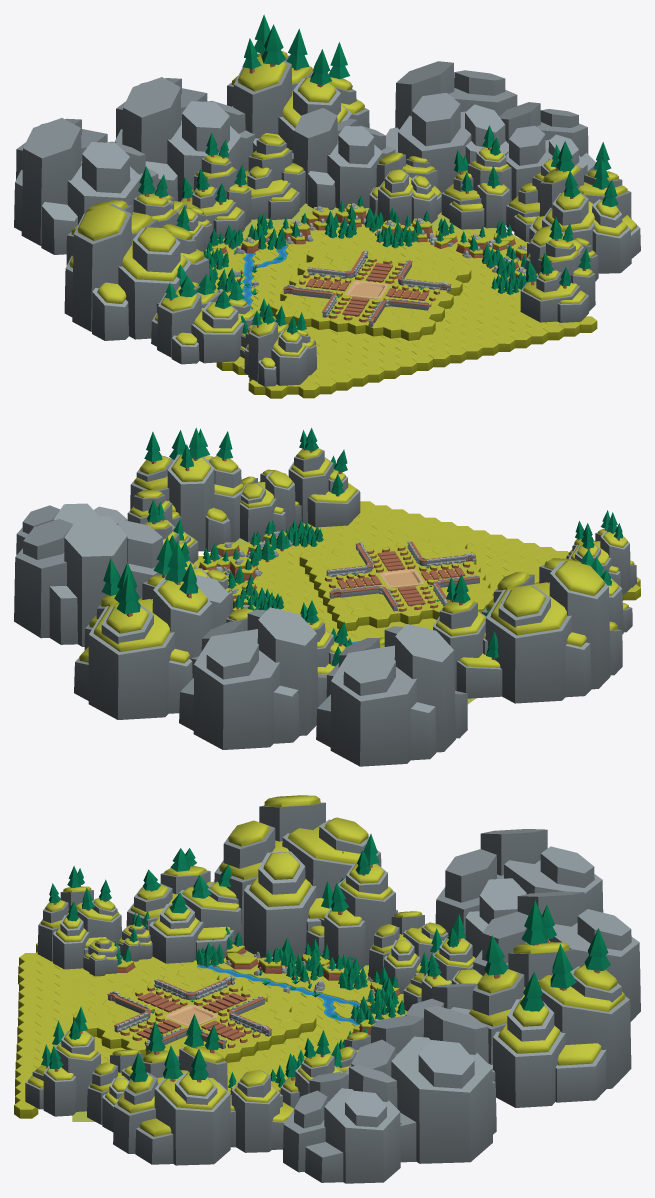
File: glb_scene.glb
3 renders of one model, top to bottom at view 1: azimuth 30°, elevation 25°; view 2: azimuth 150°, elevation 25°; view 3: azimuth 270°, elevation 25°, orthographic. The views are drawn at different scales.
Visible parts, largest first — view 1: mountain_C_grass__2_, mountain_C__2_, mountain_C__4_, mountain_C, mountain_C_grass_trees, mountain_C_grass_trees__1_, mountain_C__1_, mountain_C_grass_trees__3_, mountain_B_grass_trees__3_, mountain_C__3_, mountain_B_grass_trees__1_, mountain_C_grass_trees__2_ (+18 smaller); view 2: mountain_C__2_, mountain_C_grass_trees, mountain_C, mountain_C_grass__2_, mountain_C__4_, mountain_C_grass_trees__1_, mountain_B_grass_trees__2_, mountain_B_grass_trees__3_, mountain_C_grass__3_, mountain_C_grass_trees__2_, mountain_C__3_, mountain_B_grass_trees (+11 smaller); view 3: mountain_C_grass_trees, mountain_C__4_, mountain_C_grass__2_, mountain_C_grass_trees__1_, mountain_C__3_, mountain_C__2_, mountain_C_grass_trees__3_, mountain_C, mountain_B_grass_trees__2_, mountain_C_grass_trees__2_, mountain_B_grass_trees__3_, mountain_B_grass__1_ (+13 smaller).
Part boxes in pixels (<box>): mountain_C_grass__2_: <box>64,200,209,340</box>; mountain_C__2_: <box>14,118,158,254</box>; mountain_C__4_: <box>386,61,517,192</box>; mountain_C: <box>114,77,255,201</box>; mountain_C_grass_trees: <box>227,14,369,152</box>; mountain_C_grass_trees__1_: <box>529,141,640,273</box>; mountain_C__1_: <box>292,108,395,209</box>; mountain_C_grass_trees__3_: <box>151,264,255,364</box>; mountain_B_grass_trees__3_: <box>520,216,595,322</box>; mountain_C__3_: <box>499,102,596,200</box>; mountain_B_grass_trees__1_: <box>441,125,511,229</box>; mountain_C_grass_trees__2_: <box>244,298,316,386</box>; mountain_C__2_: <box>316,624,467,766</box>; mountain_C_grass_trees: <box>74,537,212,719</box>; mountain_C: <box>179,607,326,749</box>; mountain_C_grass__2_: <box>482,558,622,703</box>; mountain_C__4_: <box>14,516,162,646</box>; mountain_C_grass_trees__1_: <box>130,427,244,551</box>; mountain_B_grass_trees__2_: <box>433,574,502,698</box>; mountain_B_grass_trees__3_: <box>288,428,360,527</box>; mountain_C_grass__3_: <box>240,469,301,542</box>; mountain_C_grass_trees__2_: <box>566,510,636,594</box>; mountain_C__3_: <box>16,503,127,554</box>; mountain_B_grass_trees: <box>300,600,347,675</box>; mountain_C_grass_trees: <box>469,900,631,1107</box>; mountain_C__4_: <box>345,1006,496,1163</box>; mountain_C_grass__2_: <box>214,795,381,959</box>; mountain_C_grass_trees__1_: <box>113,1014,230,1165</box>; mountain_C__3_: <box>283,1065,401,1183</box>; mountain_C__2_: <box>435,829,603,957</box>; mountain_C_grass_trees__3_: <box>126,848,241,963</box>; mountain_C: <box>473,891,640,1021</box>; mountain_B_grass_trees__2_: <box>306,834,397,969</box>; mountain_C_grass_trees__2_: <box>37,865,121,969</box>; mountain_B_grass_trees__3_: <box>25,1006,100,1116</box>; mountain_B_grass__1_: <box>230,1069,293,1152</box>.
Bounding box in the file's own units: 32.23 × 8.95 × 29.77.
34 materials, 33 textured.
